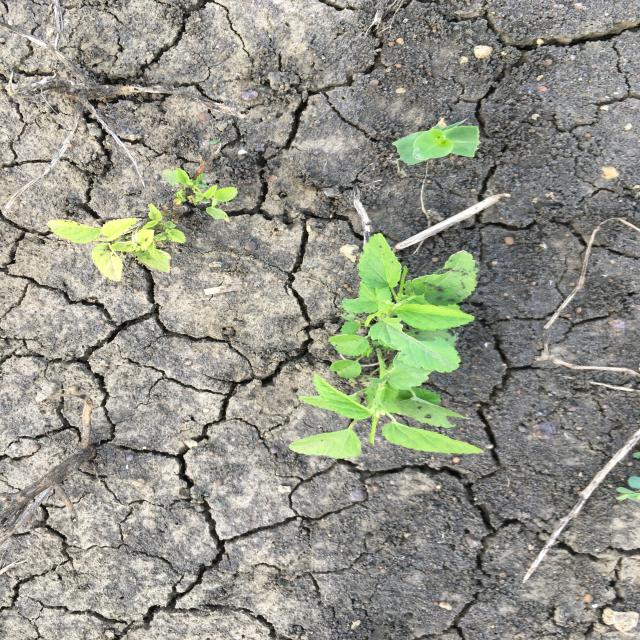PricklySida: (286, 231, 487, 462), (42, 204, 191, 284), (163, 167, 239, 224)
